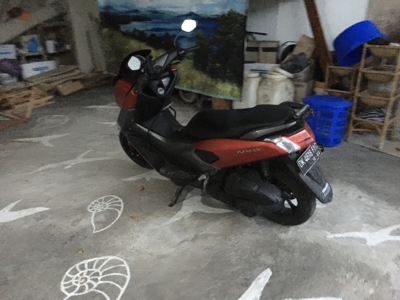moto: (113, 41, 341, 235)
